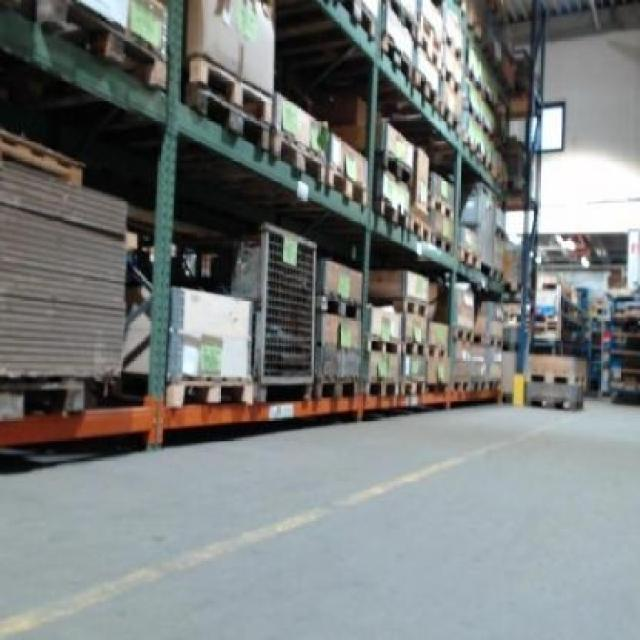floor: (0, 398, 637, 637)
pallets: (0, 158, 123, 375)
